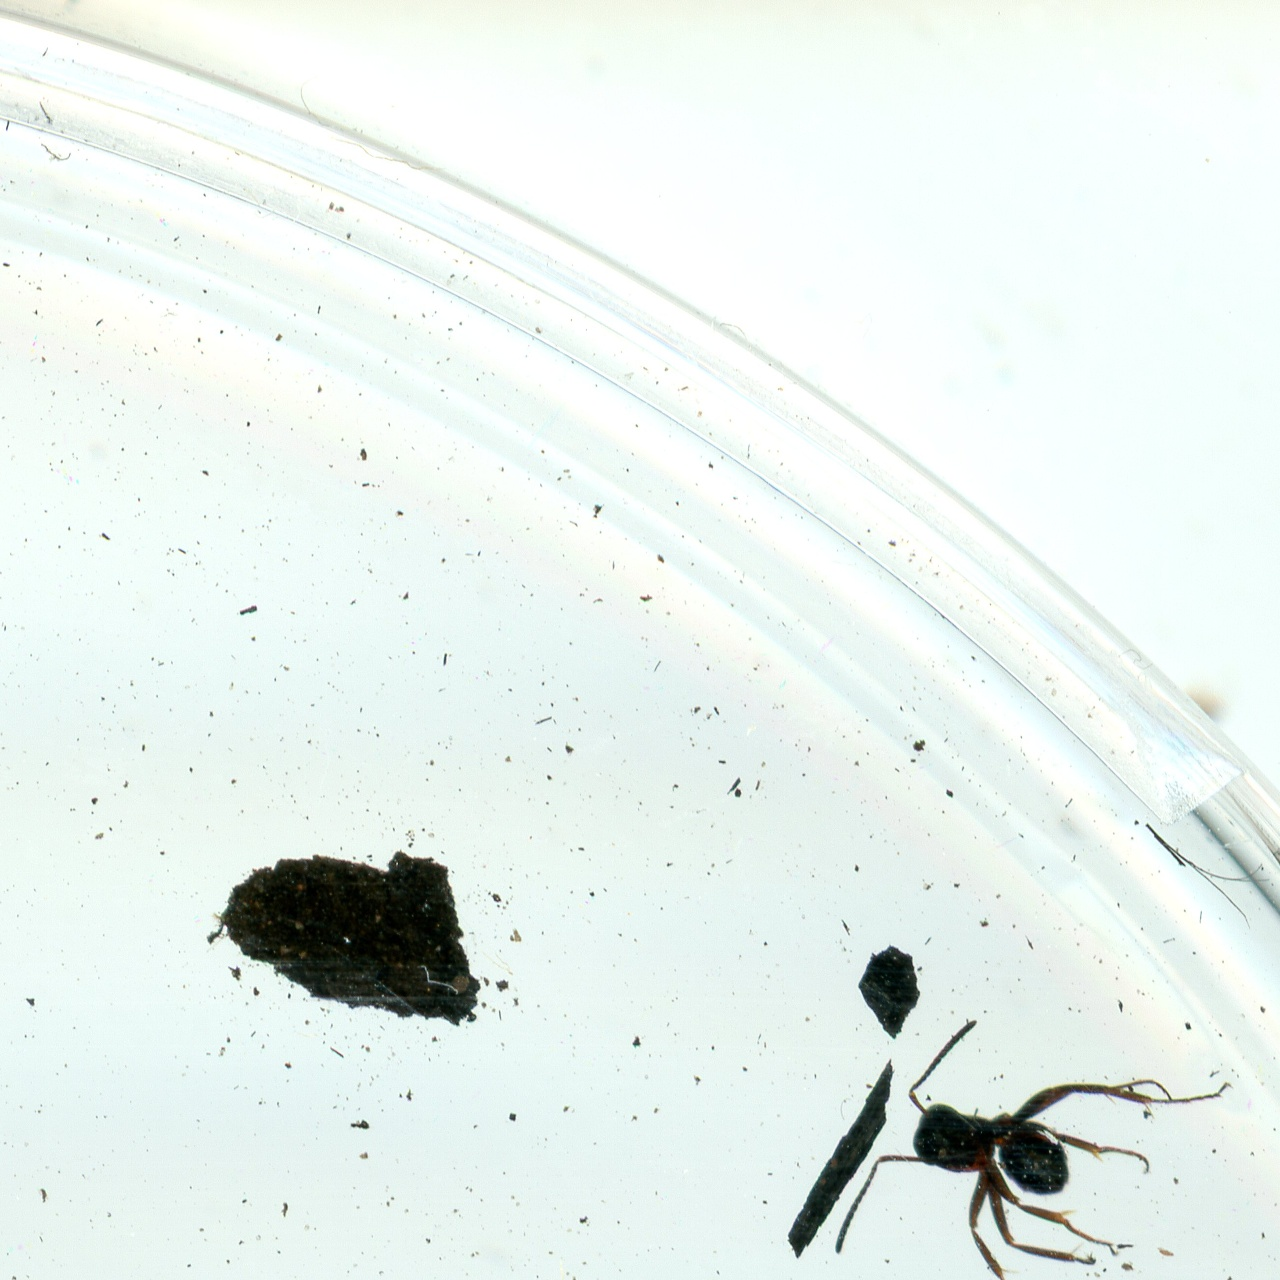arthropod: (823, 1006, 1248, 1280)
